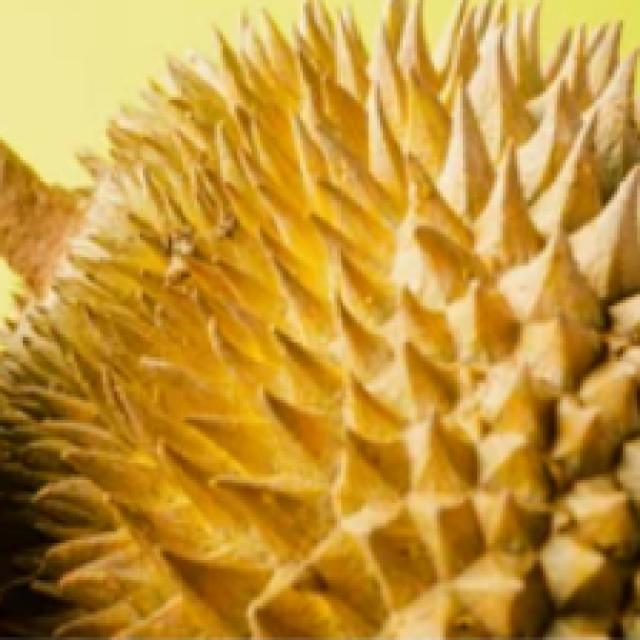d24: (28, 86, 611, 617)
